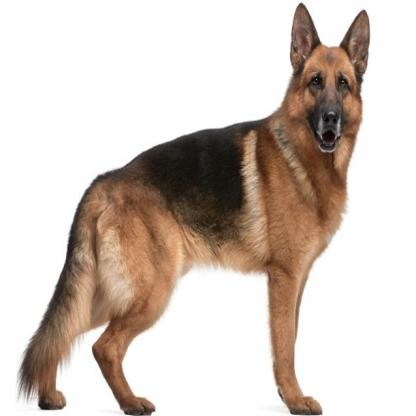german shepherd: (24, 9, 370, 410)
